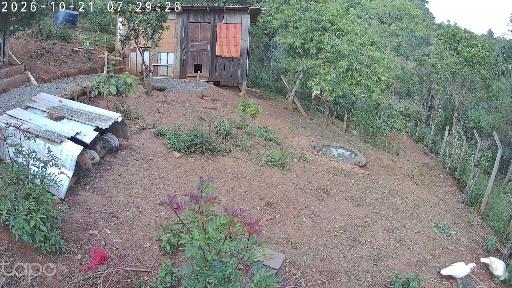frango: (311, 89, 321, 98)
galinha: (100, 133, 121, 151), (83, 149, 101, 163), (79, 156, 94, 171), (77, 163, 86, 180)
galo: (118, 62, 127, 74)
pato: (442, 258, 480, 284), (482, 254, 510, 284)
